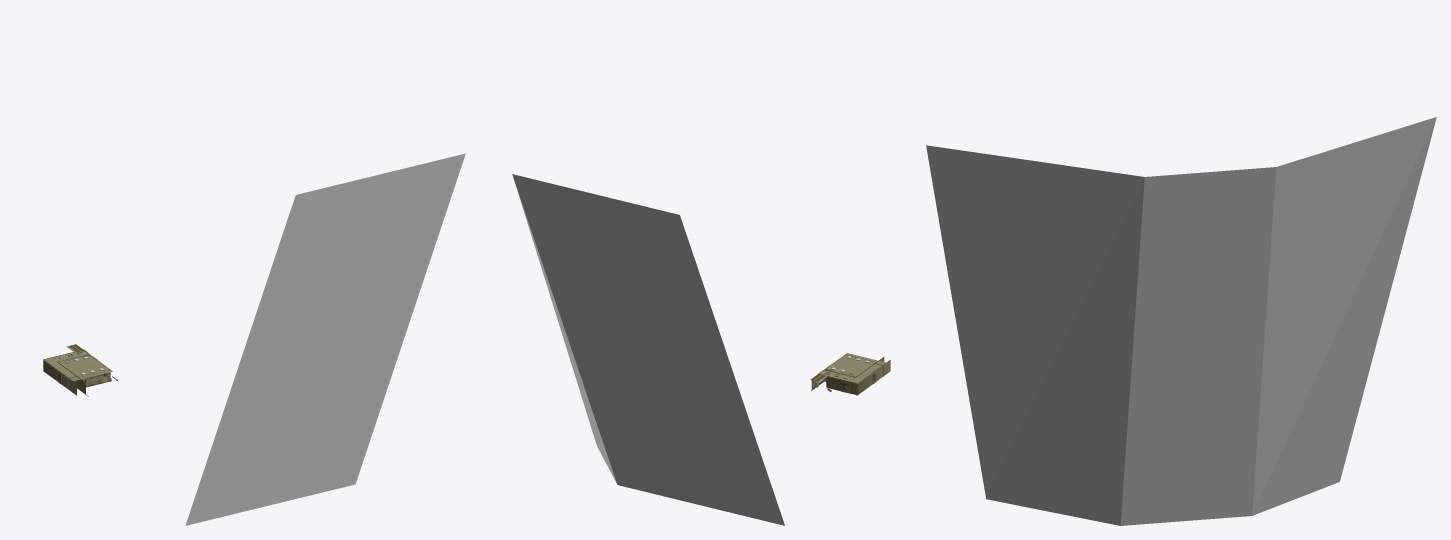
File: track.glb
3 renders of one model, left to right at view 1: azimuth 30°, elevation 25°; view 2: azimuth 150°, elevation 25°; view 3: azimuth 270°, elevation 25°, orthographic. The views are drawn at different scales.
Visible parts, largest first — view 1: mesh_1, mesh_3, mesh_5; view 2: mesh_1, mesh_3, mesh_5; view 3: mesh_1.
Part boxes in pixels (x1,y1,x2,y2): mesh_1: (185, 153, 465, 525); mesh_3: (43, 344, 112, 381); mesh_5: (43, 352, 110, 396); mesh_1: (512, 174, 784, 525); mesh_3: (810, 353, 886, 383); mesh_5: (811, 355, 890, 395); mesh_1: (926, 117, 1436, 525).
Size of the model in its own units: 1287 by 1119 by 1276.
Materials: 8 (8 with a texture image).
